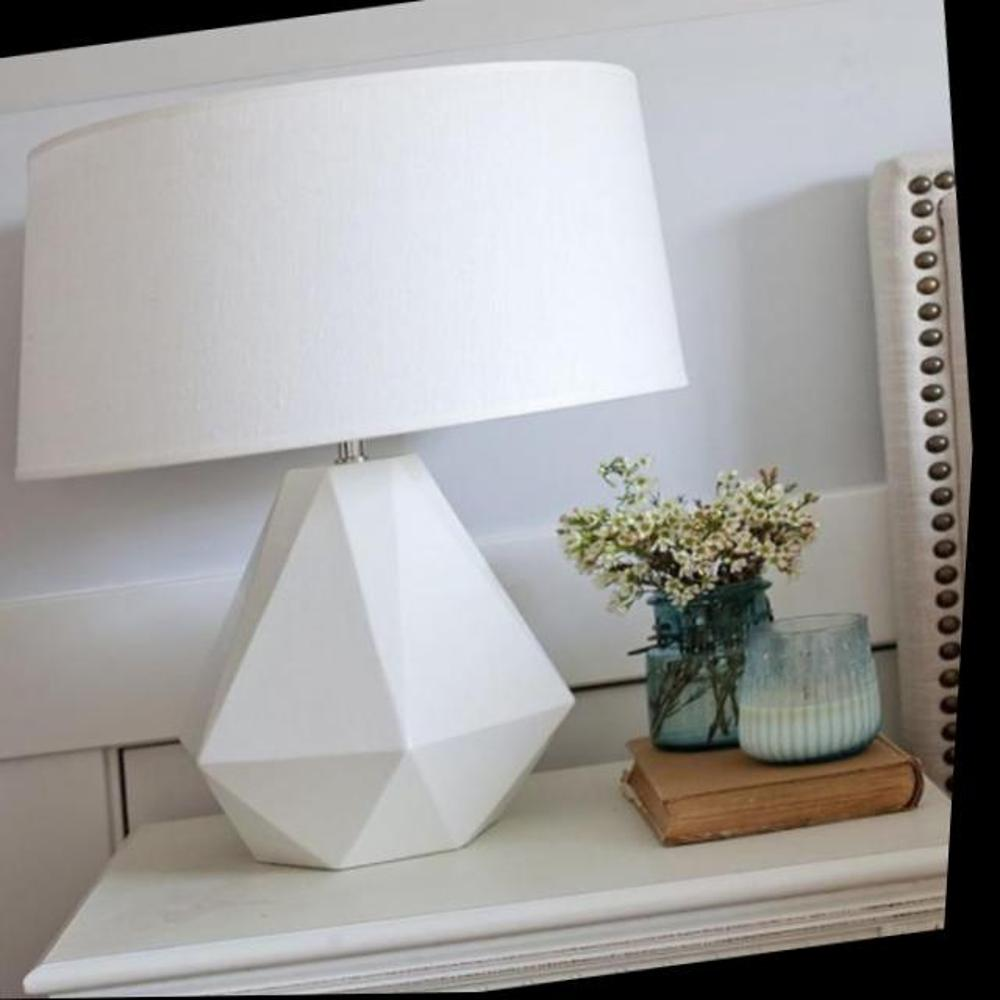shelf: (0, 29, 753, 898)
